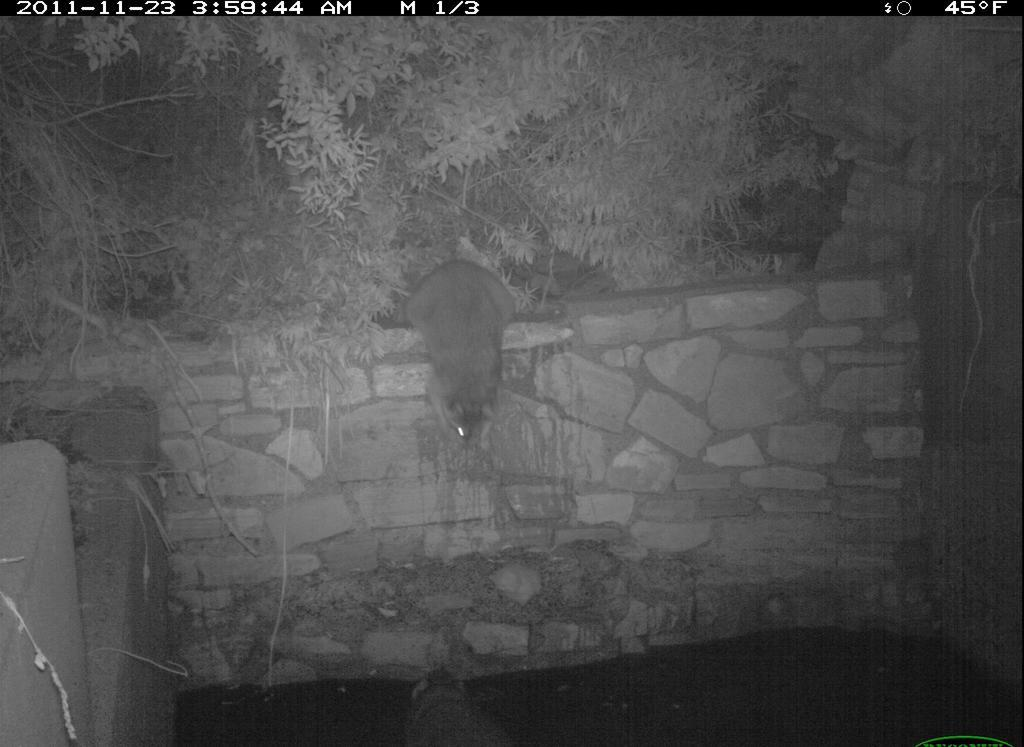raccoon: (386, 234, 532, 456)
